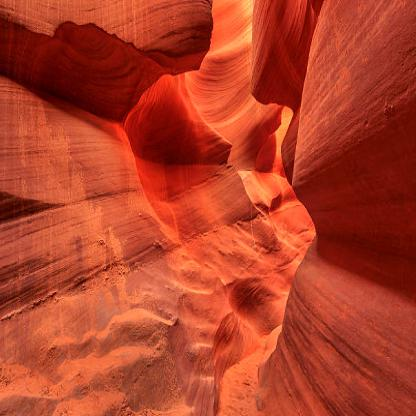Sedimentary_Sandstone: (257, 243, 416, 415), (1, 0, 216, 121), (250, 0, 415, 105)
